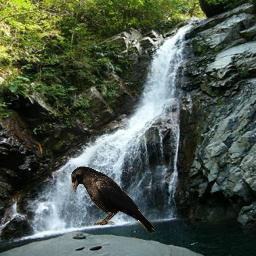Crow: (71, 166, 156, 233)
